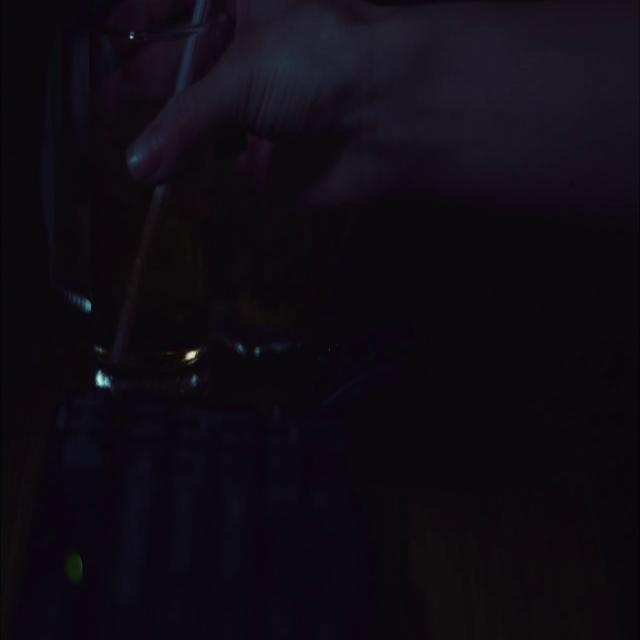People: (98, 0, 640, 334)
